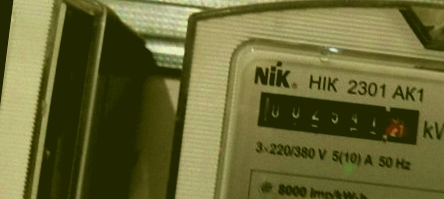0: (266, 97, 282, 119), (287, 98, 302, 120)
1: (366, 108, 379, 130)
2: (307, 101, 322, 122)
4: (347, 105, 362, 127)
5: (326, 102, 341, 126)
6: (387, 123, 400, 139)
screen: (244, 80, 432, 156)
